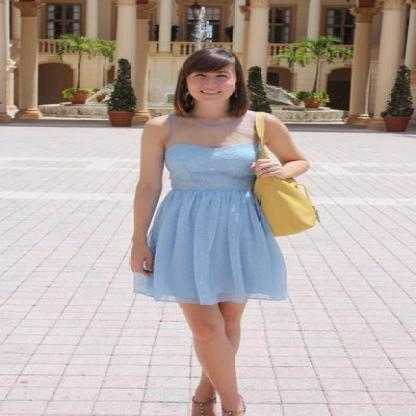bag: (255, 176, 319, 236)
dress: (133, 133, 286, 304)
shoe: (192, 392, 245, 416)
